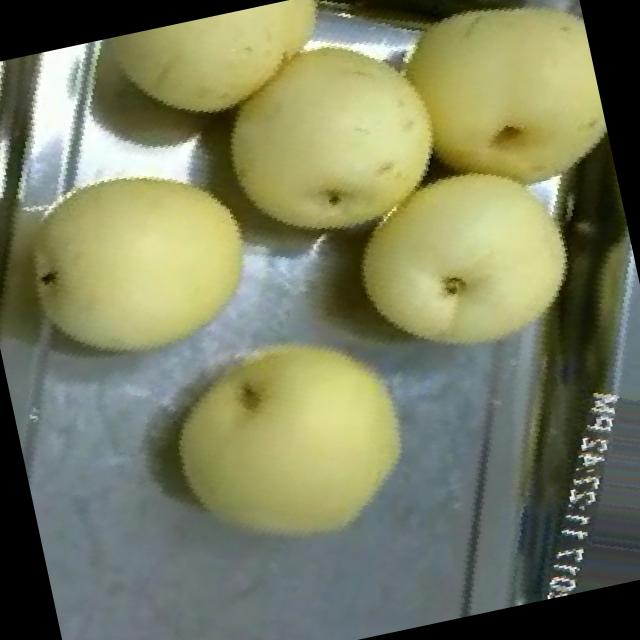Fruit: (120, 276, 455, 598), (167, 0, 502, 292), (0, 108, 302, 418), (307, 110, 618, 404), (355, 0, 621, 245)
